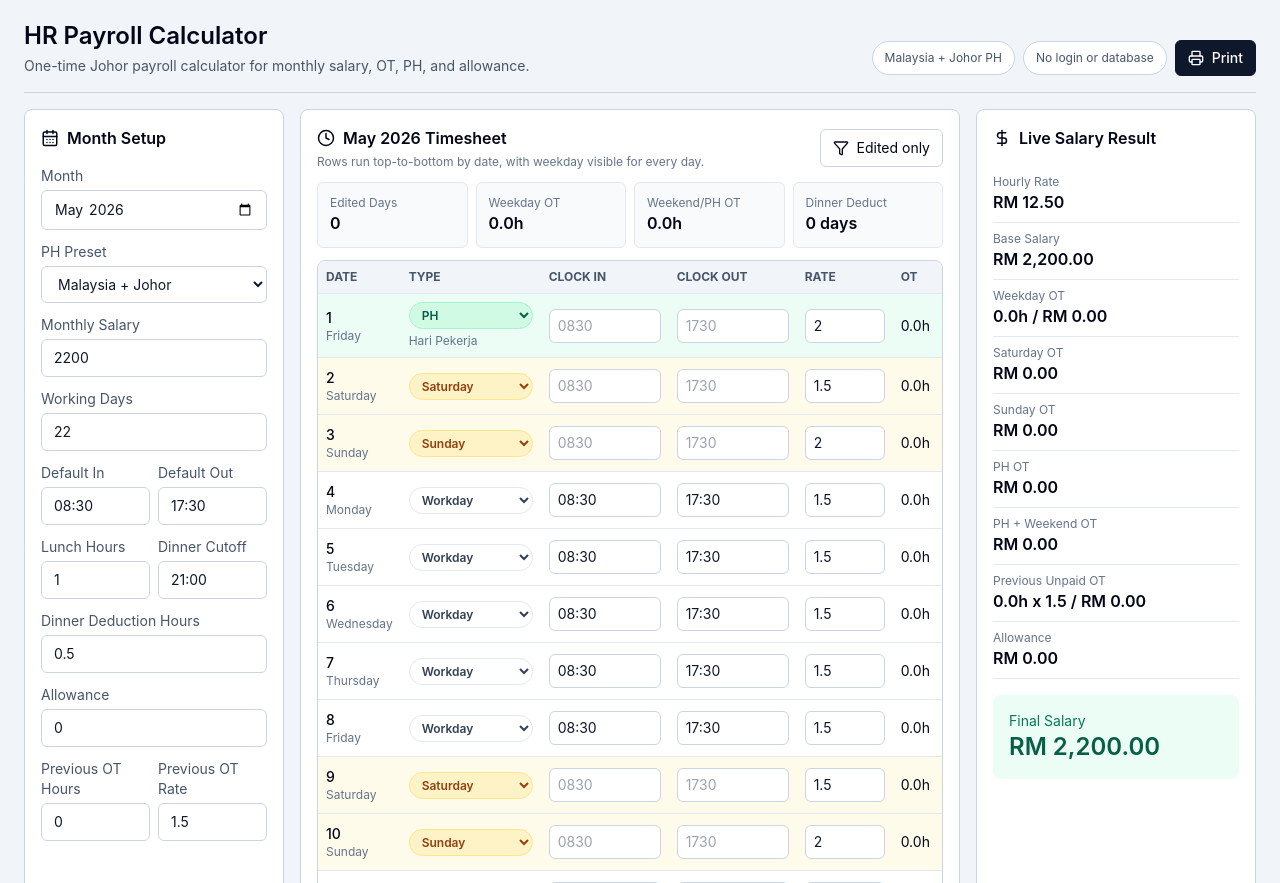
Test: Payroll workbench › uses text-based 24-hour time inputs and accepts compact time
Replace the text in the field named "2026-05-06 clock in" with "0730" at (605, 614), box [549, 597, 661, 631]
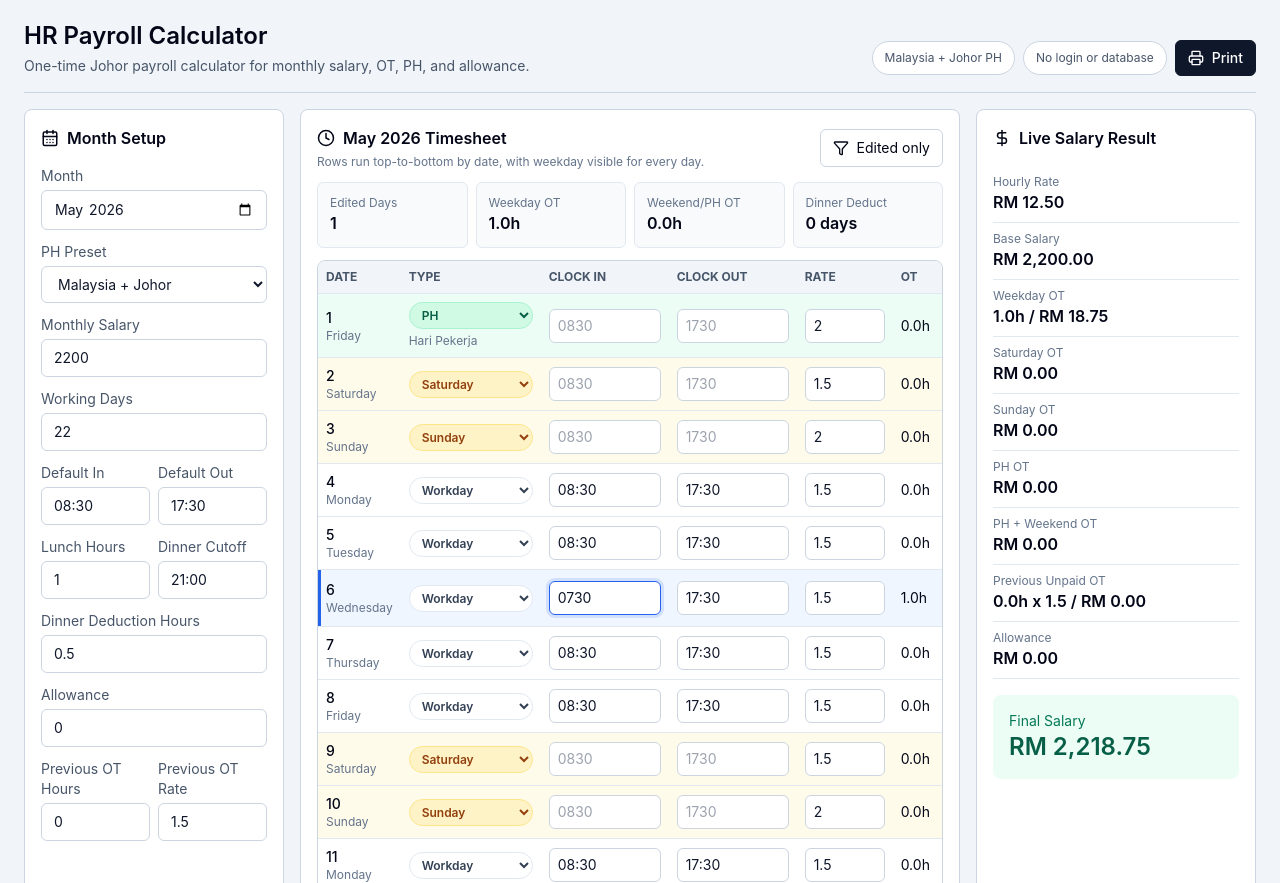
Press Tab
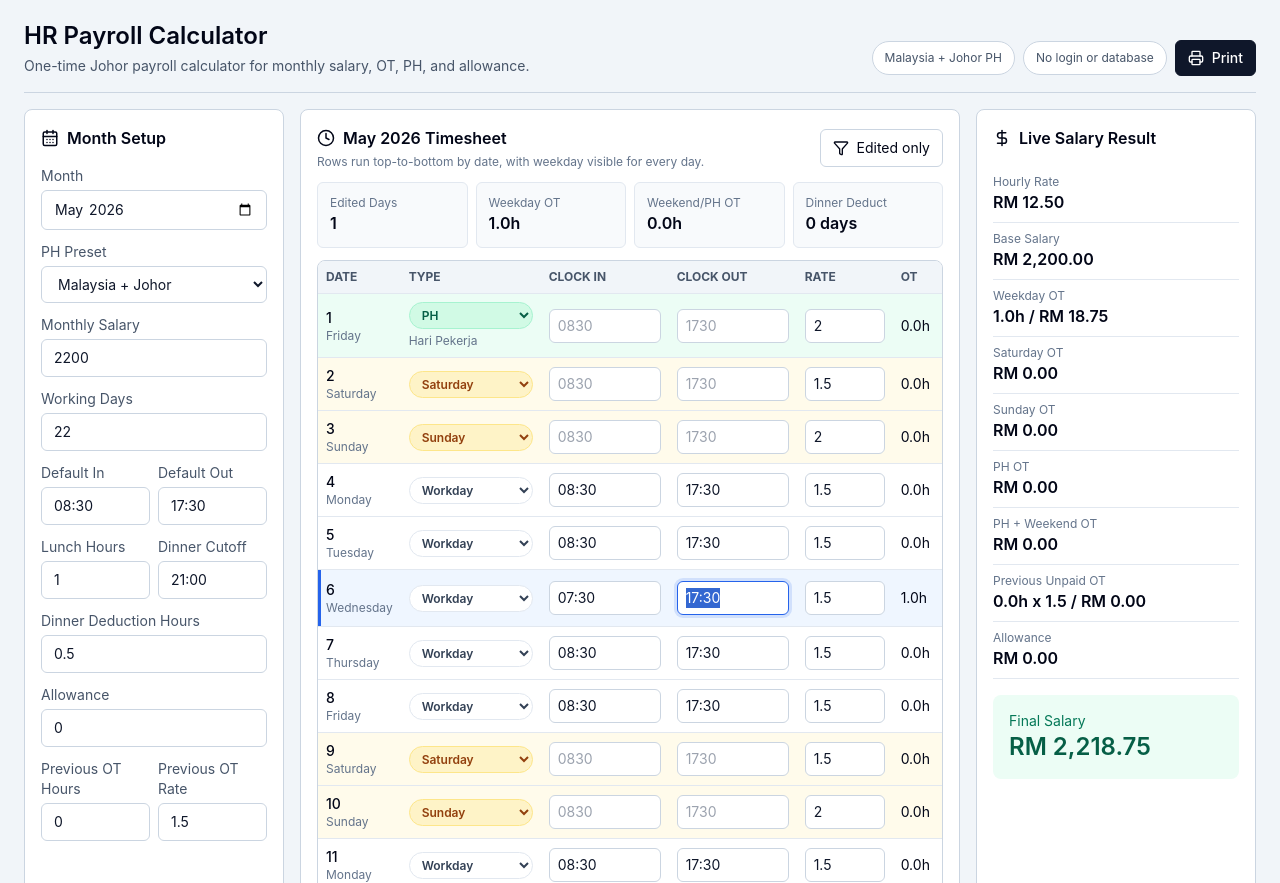
Expected: the field named "2026-05-06 clock in" holds "07:30", [549, 581, 661, 615]
Clear the field named "2026-05-06 clock out" at (733, 598), box [677, 581, 789, 615]
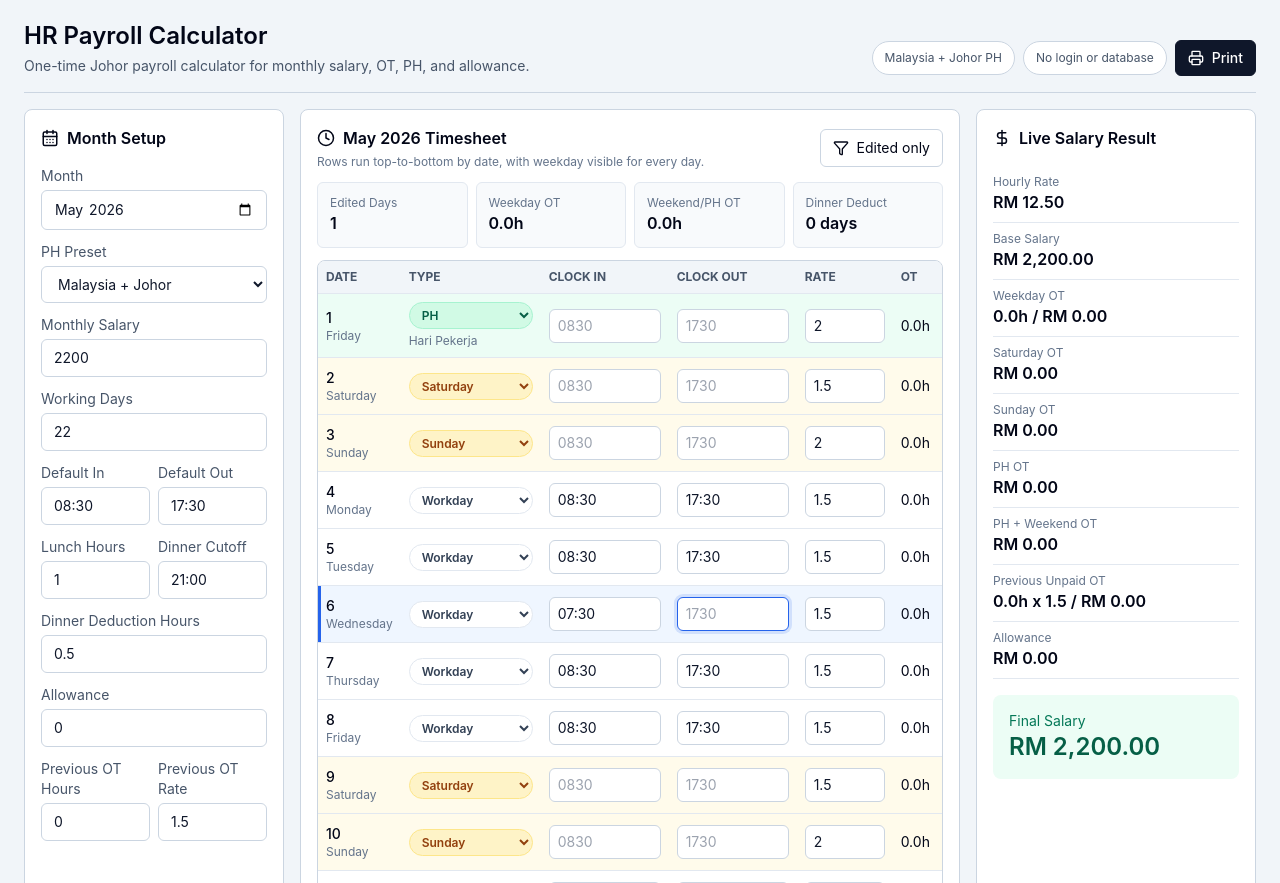
Type "1830" into the field named "2026-05-06 clock out".
click(733, 614); type("1830")  # box [677, 597, 789, 631]
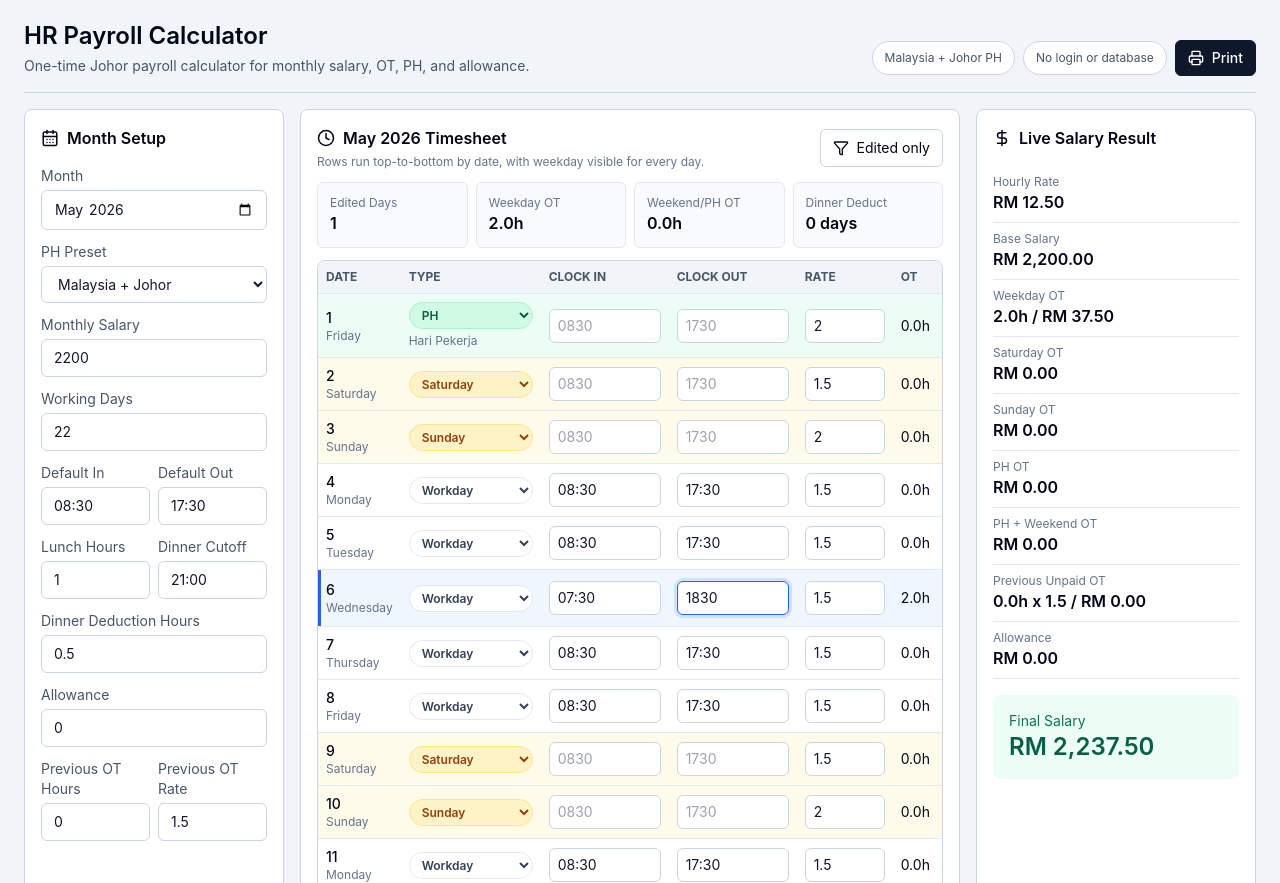
Press Tab
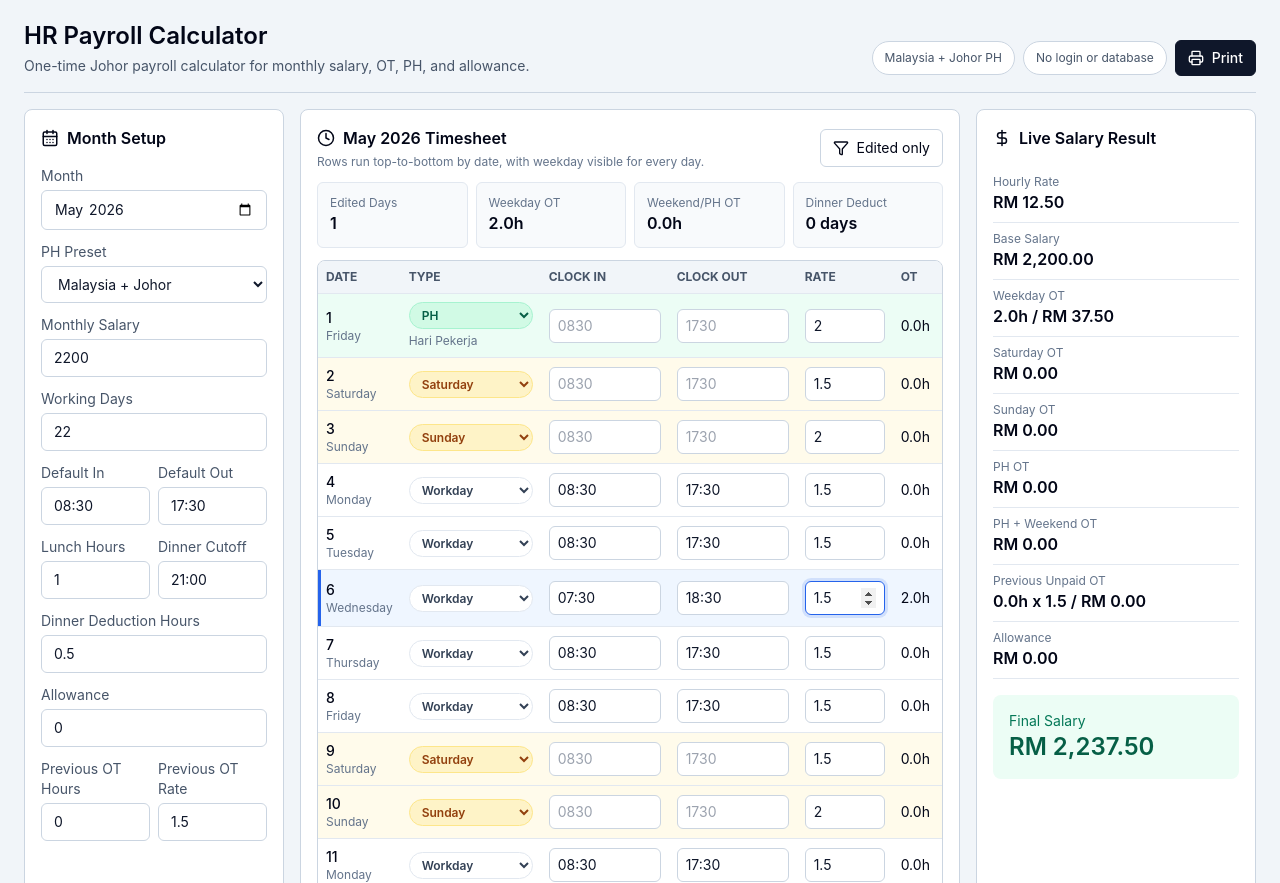
Expected: the text "2.0h / RM 37.50" is shown, [993, 306, 1114, 326]
Expected: the text "RM 2,237.50" is shown, [1009, 732, 1154, 761]
Expected: the field named "2026-05-06 clock out" holds "18:30", [677, 581, 789, 615]
